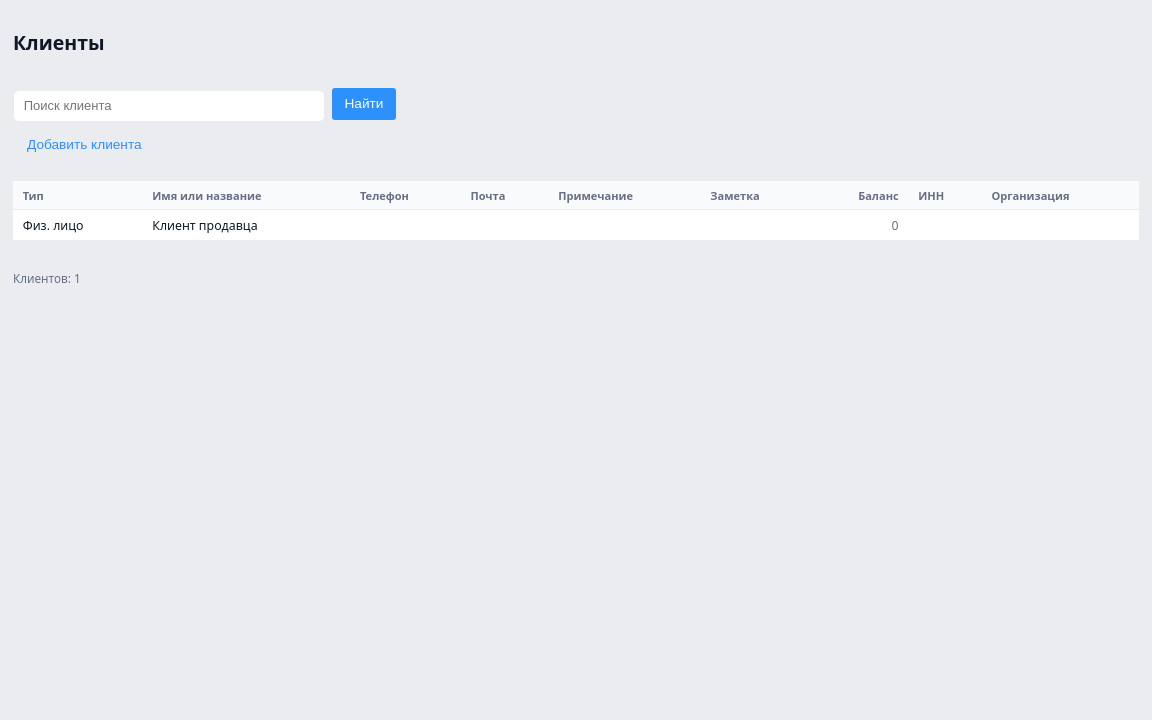
Test: раздел «Клиенты» › продавцу поля показаны текстом, а сохранения нет
Click the text "Клиент продавца" at [246, 225], box [142,210,350,241]
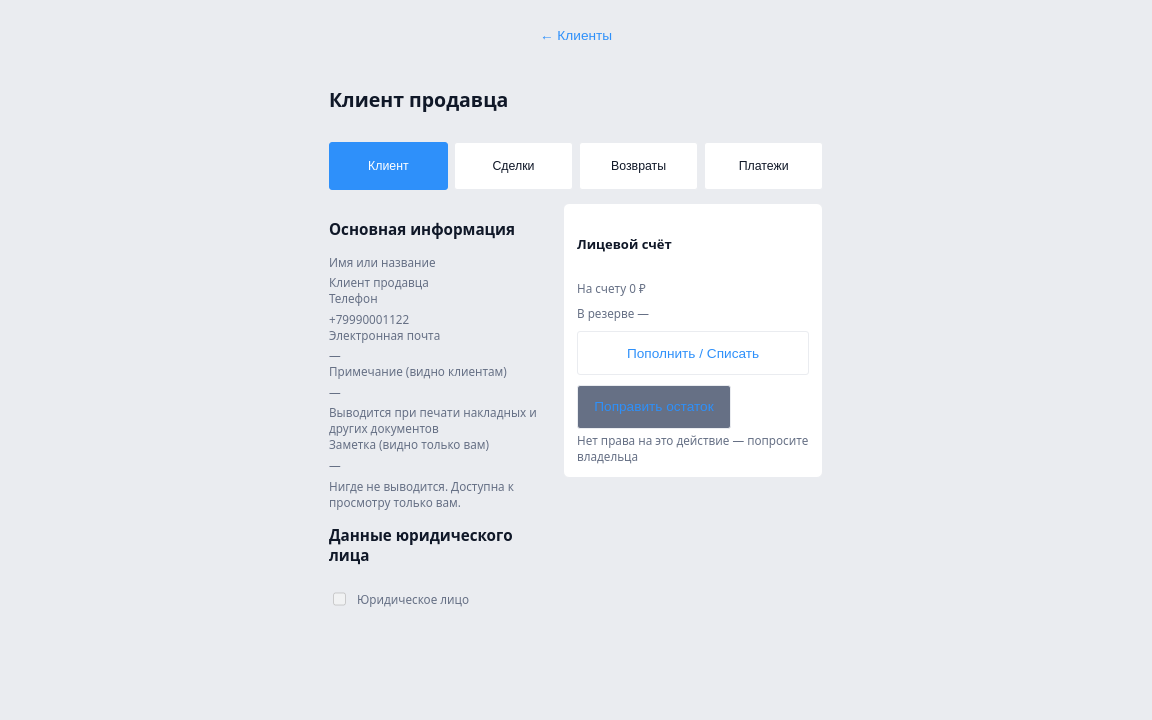
Check: the heading "Клиент продавца" is shown, box [329,86,508,113]
Check: the label "Телефон +79990001122" is shown, box [329,290,409,327]
Check: the button "Пополнить / Списать" is shown, box [577,331,809,375]
